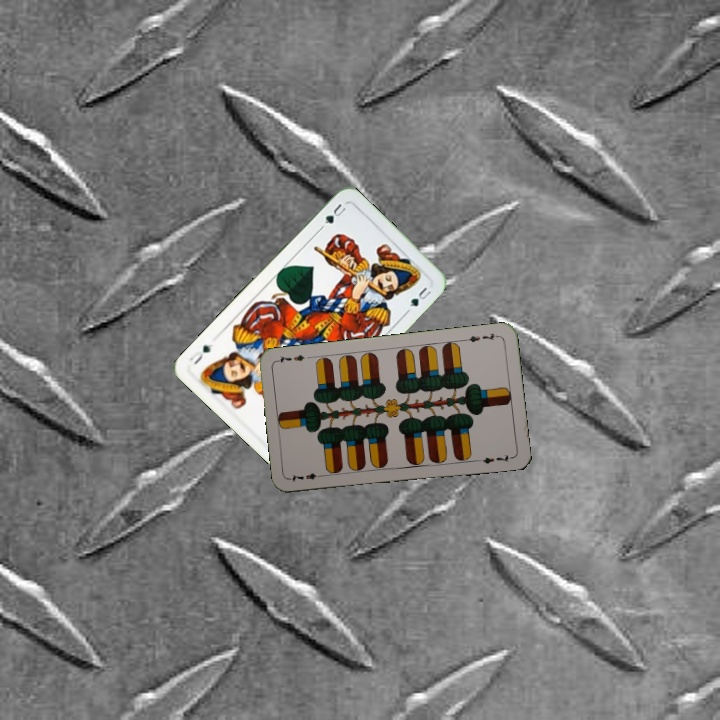E7: (461, 329, 501, 345), (287, 469, 327, 484)
GU: (320, 199, 350, 226)
